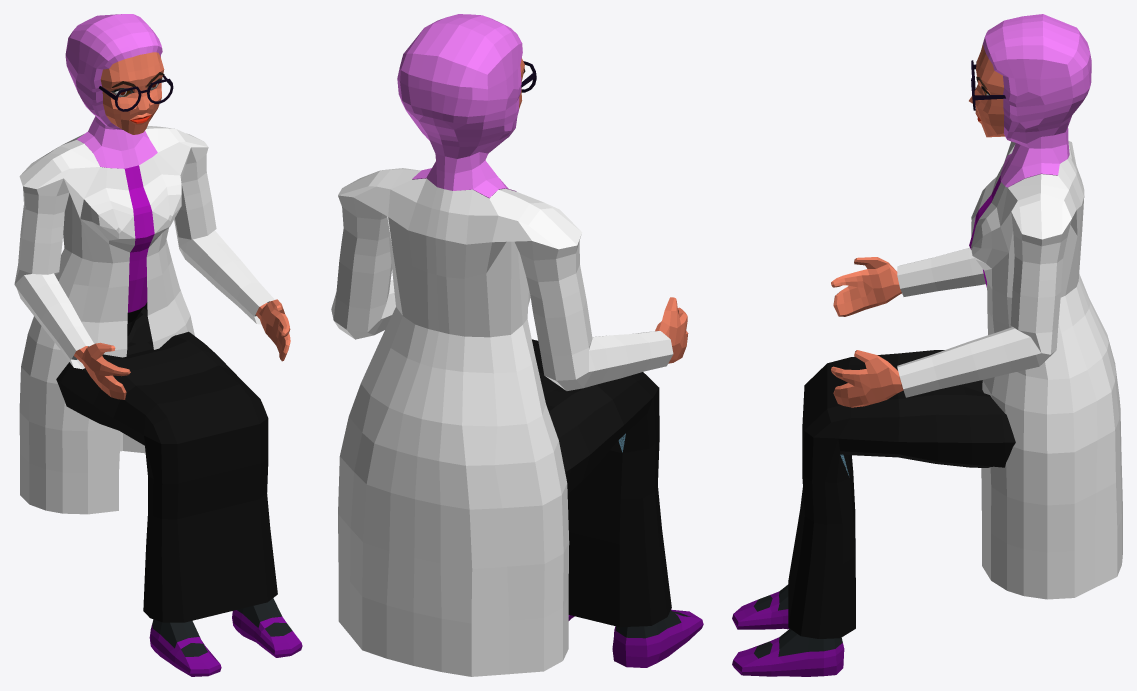
Rendered from ScientistFemale_B_Sit.fbx.
3 renders of one model, left to right at view 1: azimuth 30°, elevation 25°; view 2: azimuth 150°, elevation 25°; view 3: azimuth 270°, elevation 25°, orthographic. The views are drawn at different scales.
Parts seen in each view (by area): view 1: ScientistFemale_B_Sit; view 2: ScientistFemale_B_Sit; view 3: ScientistFemale_B_Sit.
Boxes of the visible parts, x1=… form: ScientistFemale_B_Sit: x1=14, y1=14, x2=302, y2=676; ScientistFemale_B_Sit: x1=331, y1=14, x2=703, y2=676; ScientistFemale_B_Sit: x1=732, y1=14, x2=1122, y2=676.
Size of the model in its own units: 0.2819 by 0.7132 by 0.4047.
